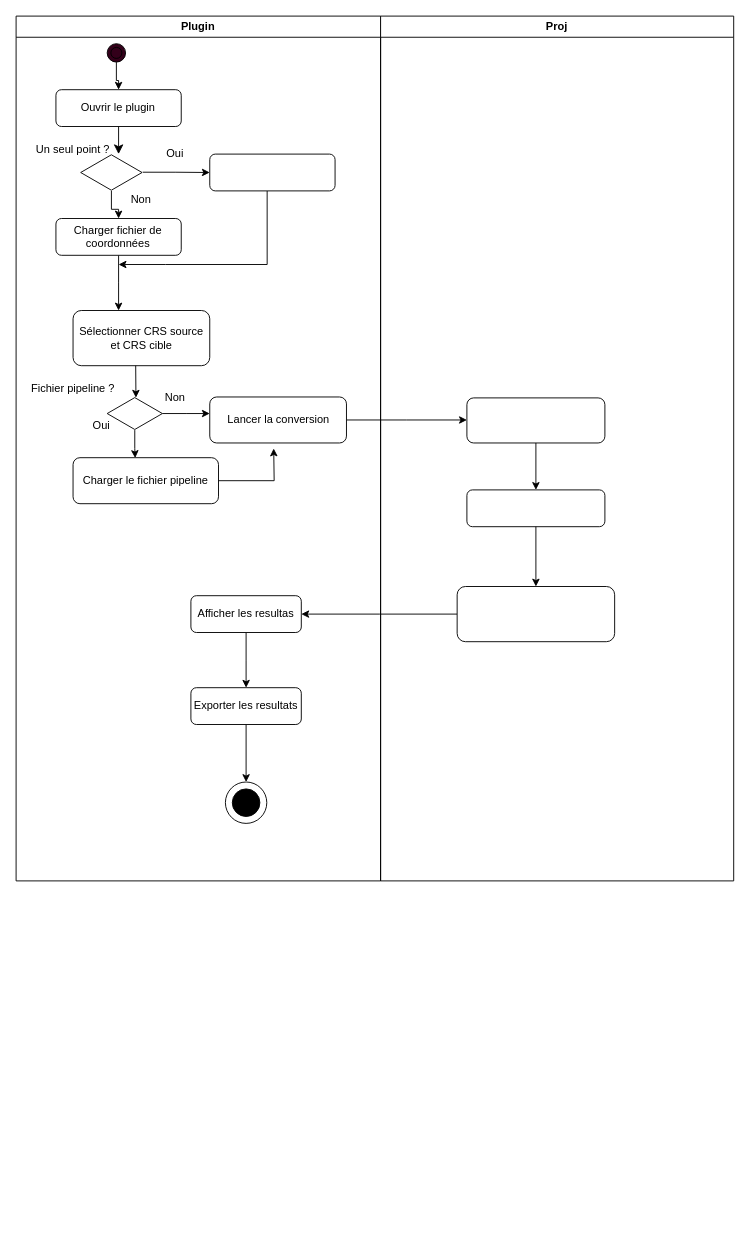
Some shapes in this 750 by 1237 pixel diagram are drawn without their labels. Here are the shapes that lost their labels. From the top down, the centre of each, then its label:
(x=272, y=172): Entrer les coordonnées
(x=535, y=420): Appliquer les transformations
(x=535, y=508): Calcul des altitudes
(x=535, y=614): Retourner les coordonnées transformées avec les altitudes
